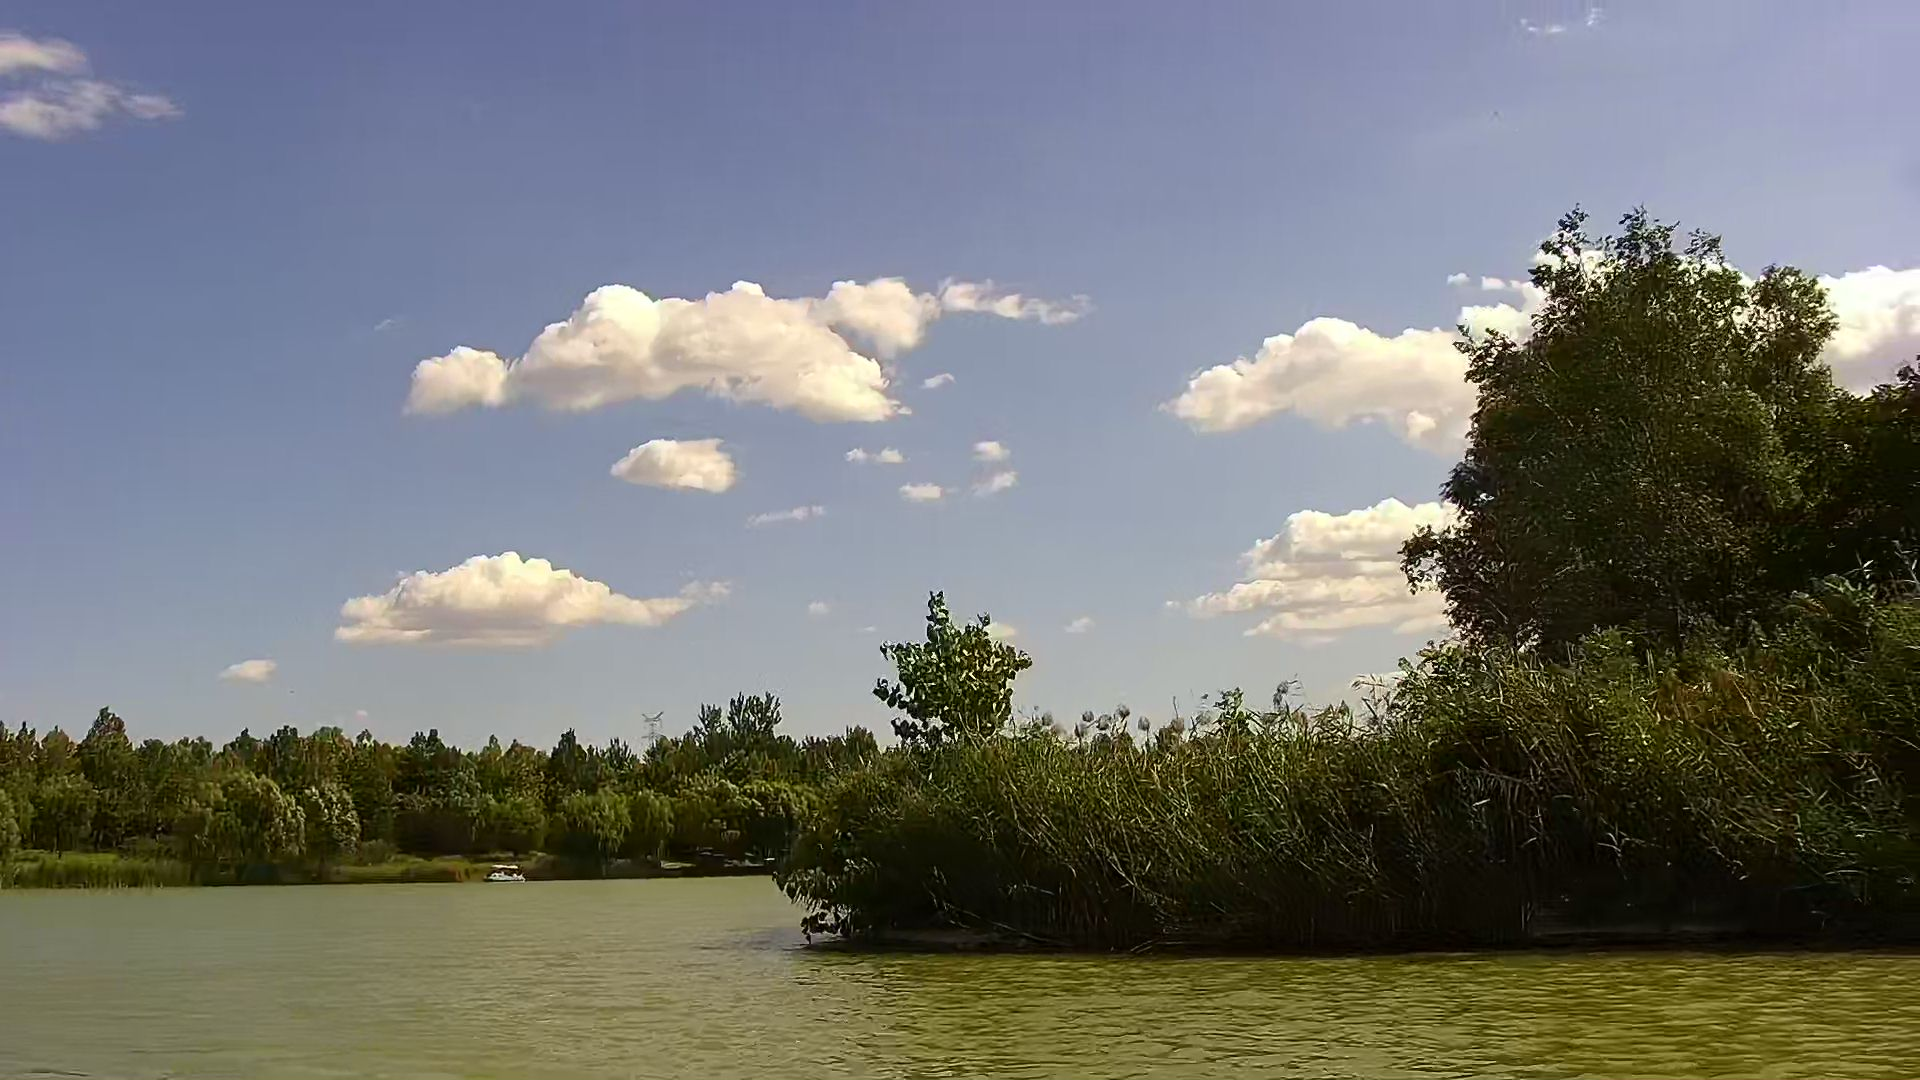boat: (483, 862, 524, 884)
